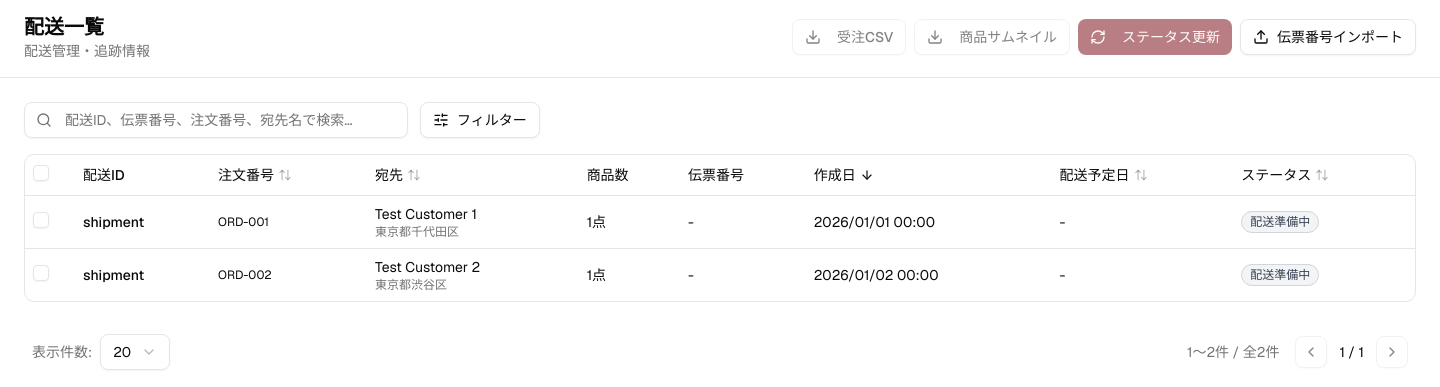
Test: AC-014: Thumbnail button is enabled when one or more shipments are selected › enables the "商品サムネイル" button when one shipment is selected
Click the checkbox in the row of "ORD-001".
click(41, 220)  # box [33,212,49,228]
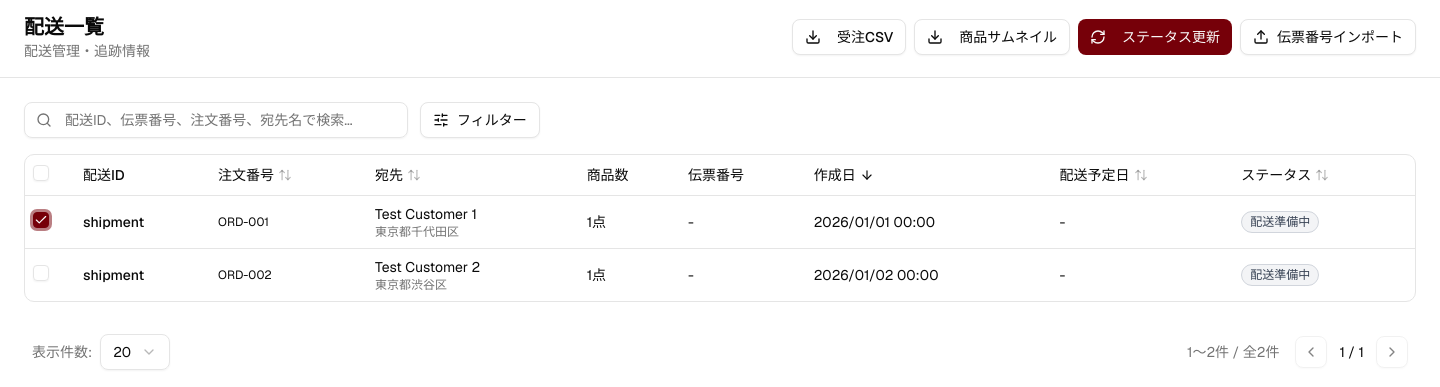
Now the button "商品サムネイル" is enabled, box [914,19,1070,55]
